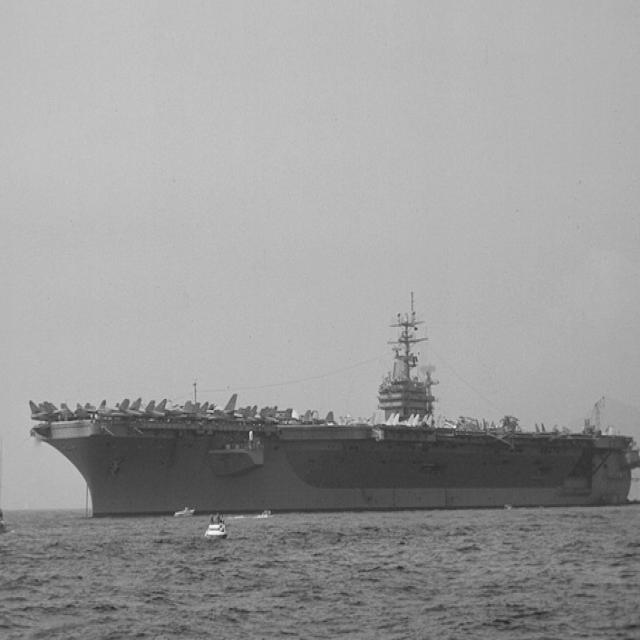Portanaves: (25, 289, 640, 528)
